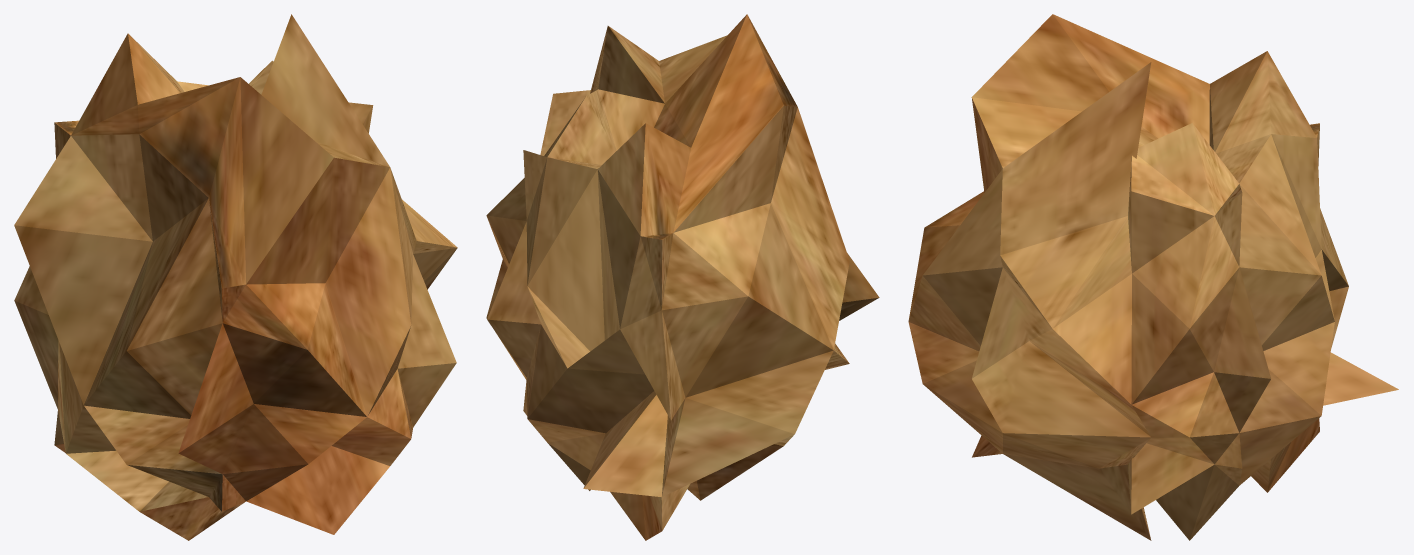
File: scrap_of_paper.dae
3 views of the same model, side by side, from view 1: azimuth 30°, elevation 25°; view 2: azimuth 150°, elevation 25°; view 3: azimuth 270°, elevation 25° (orthographic). The views are drawn at different scales.
Parts seen in each view (by area): view 1: Cube; view 2: Cube; view 3: Cube.
Part boxes in pixels (x1,y1,x2,y2): Cube: [14, 14, 457, 540]; Cube: [486, 14, 879, 540]; Cube: [908, 14, 1398, 540].
Size of the model in its own units: 0.8695 by 1.09 by 1.17.
1 material, 1 textured.
